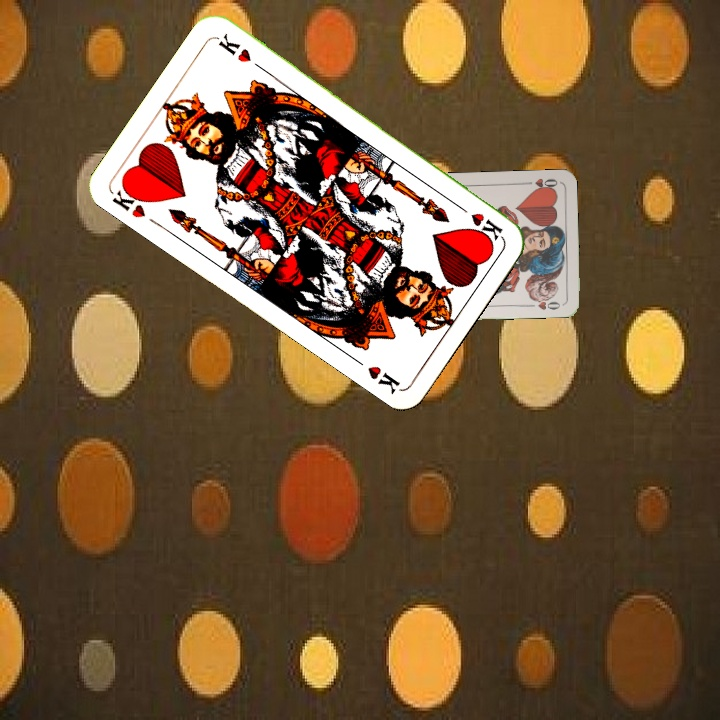HK: (452, 200, 506, 243), (108, 179, 152, 221)
HO: (520, 174, 560, 193)
